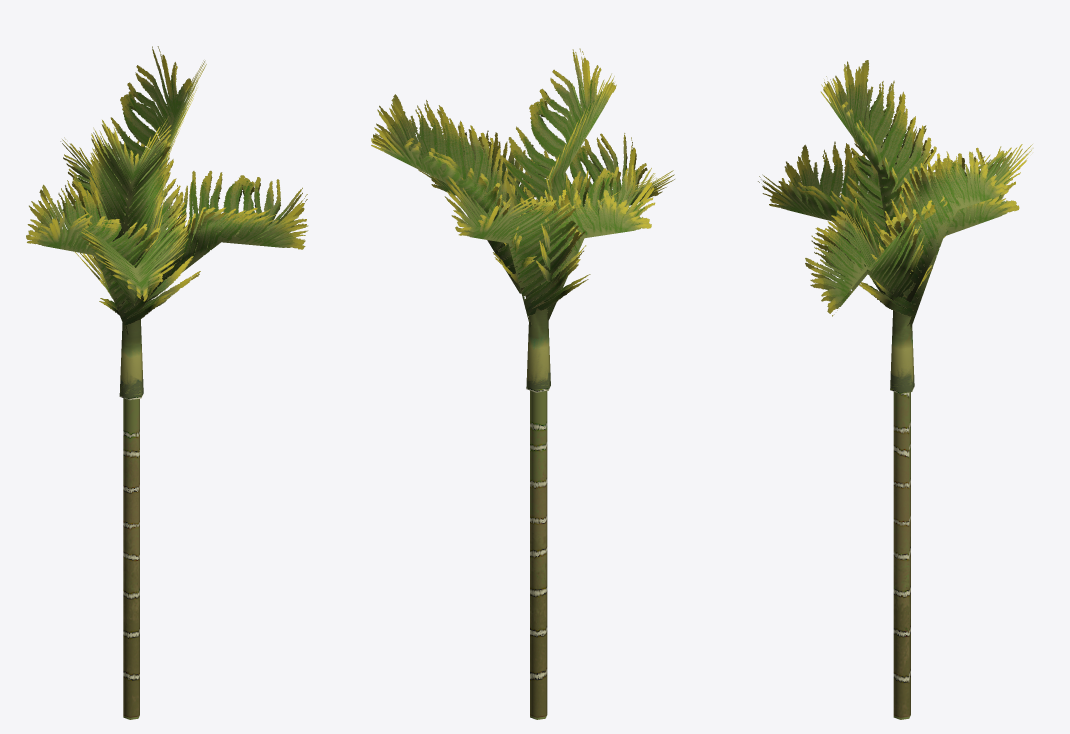
The model's file is palm_areca_0.glb.
3 views of the same model, side by side, from view 1: azimuth 30°, elevation 25°; view 2: azimuth 150°, elevation 25°; view 3: azimuth 270°, elevation 25° (orthographic). The views are drawn at different scales.
Parts seen in each view (by area): view 1: palm_areca_0; view 2: palm_areca_0; view 3: palm_areca_0.
Boxes of the visible parts, x1,y1,x2,y2 form: palm_areca_0: [26, 46, 308, 719]; palm_areca_0: [371, 48, 674, 719]; palm_areca_0: [758, 60, 1033, 719].
Bounding box in the file's own units: 4.44 × 9.91 × 4.26.
1 material, 1 textured.
